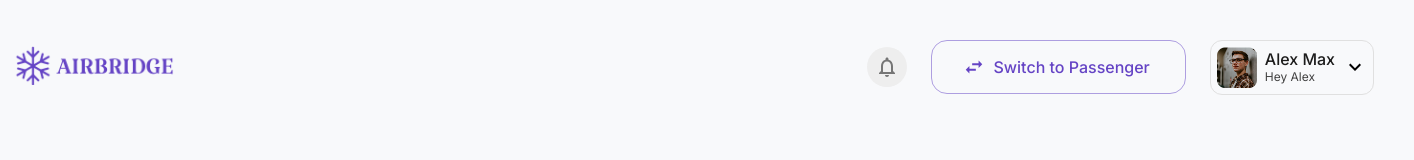
it: Screen Header › handles switch role API error
The image size is (1414, 160).
Click the button "Switch to Passenger" at (1059, 67), box [932,40,1186,94]
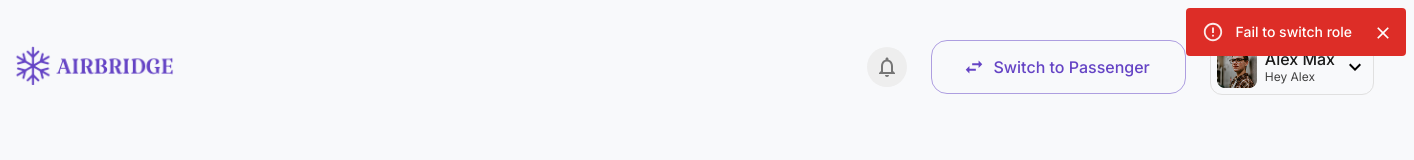
Expected: the message "Fail to switch role" is shown, [1186,8,1406,56]
Expected: the text "Fail to switch role" is shown, [1236,23,1352,40]
